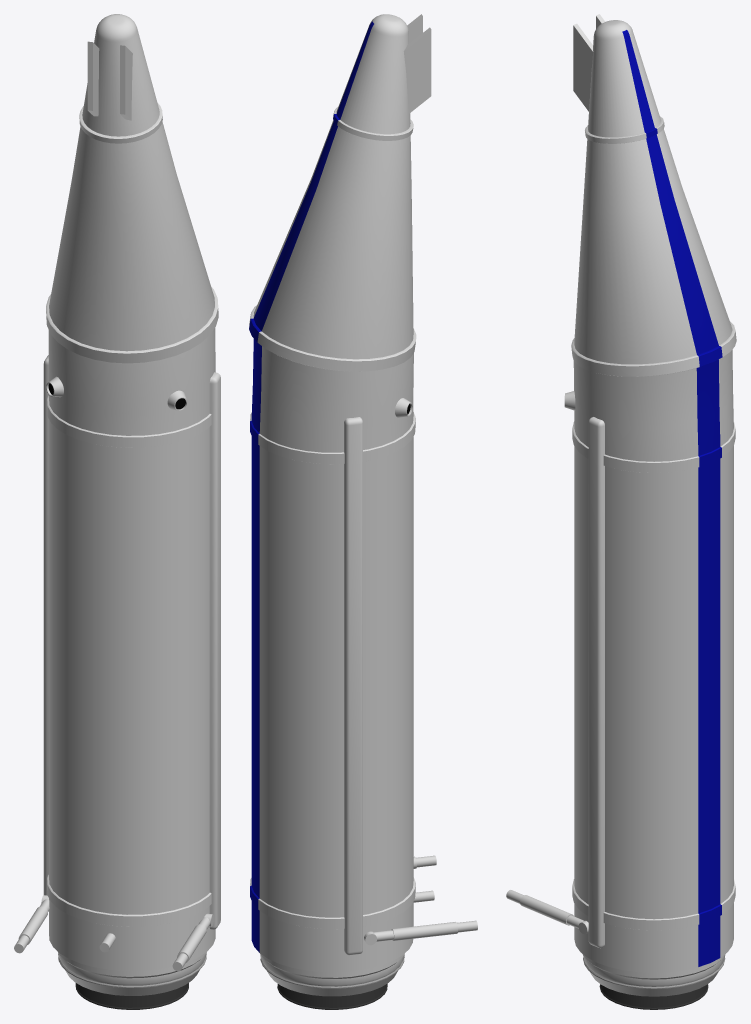
File: ariane_64-booster4.gltf
The picture shows the model from 3 angles, left to right: view 1: azimuth 30°, elevation 25°; view 2: azimuth 150°, elevation 25°; view 3: azimuth 270°, elevation 25°; orthographic projection. The views are drawn at different scales.
Visible parts, largest first — view 1: Booster_10; view 2: Booster_10; view 3: Booster_10.
Part boxes in pixels (x1,y1,x2,y2): Booster_10: (14, 14, 220, 1009); Booster_10: (249, 14, 477, 1009); Booster_10: (506, 14, 736, 1009).
Size of the model in its own units: 0.0798 by 0.3624 by 0.0798.
